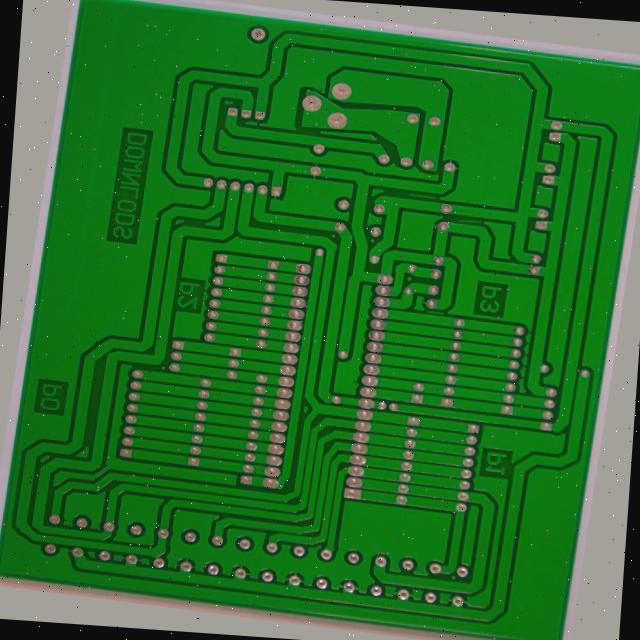spurious_copper: (400, 178, 435, 189), (456, 201, 486, 211), (431, 300, 456, 310)
